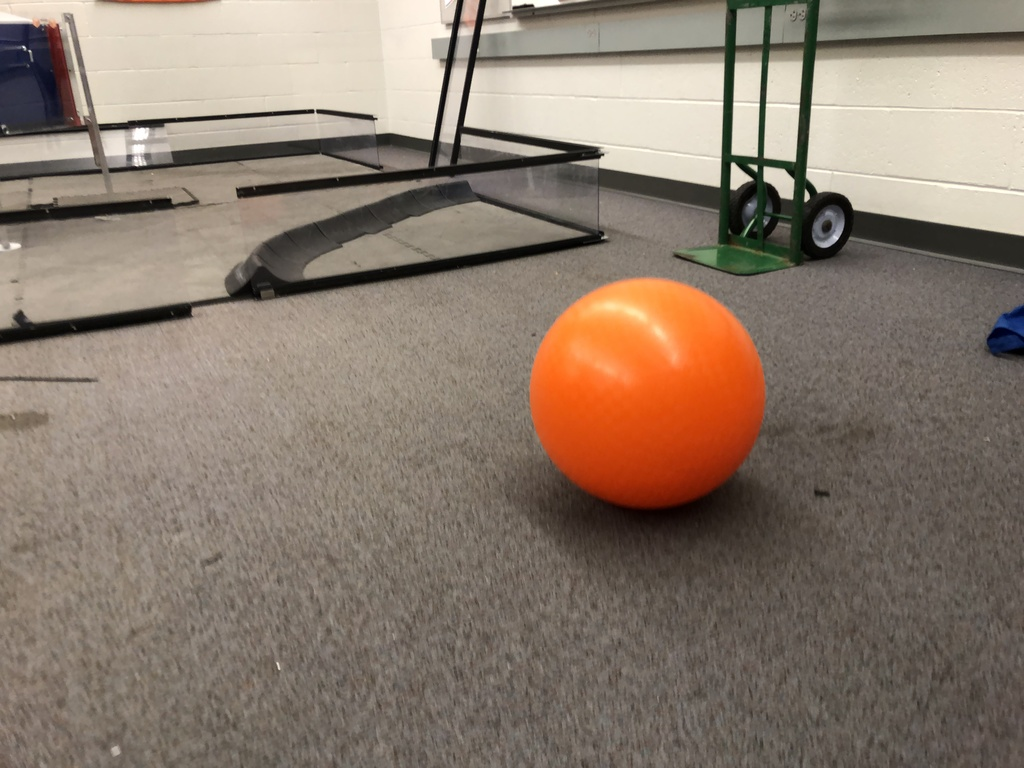cargo: (529, 265, 766, 521)
